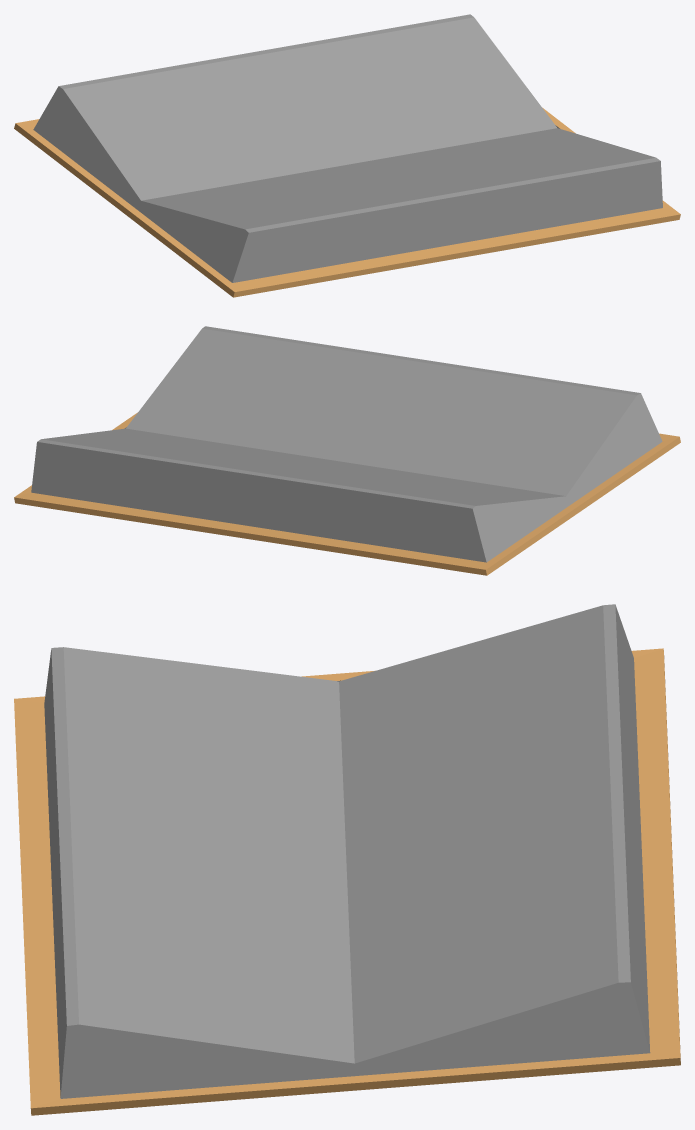
The model's file is Book.fbx.
3 renders of one model, top to bottom at view 1: azimuth 30°, elevation 25°; view 2: azimuth 150°, elevation 25°; view 3: azimuth 270°, elevation 25°, orthographic. The views are drawn at different scales.
Visible parts, largest first — view 1: Cube; view 2: Cube; view 3: Cube.
Part boxes in pixels (x1,y1,x2,y2): Cube: (14, 14, 680, 297); Cube: (14, 326, 680, 575); Cube: (14, 604, 680, 1115).
Bounding box in the file's own units: 24.38 × 5.3 × 18.82.
